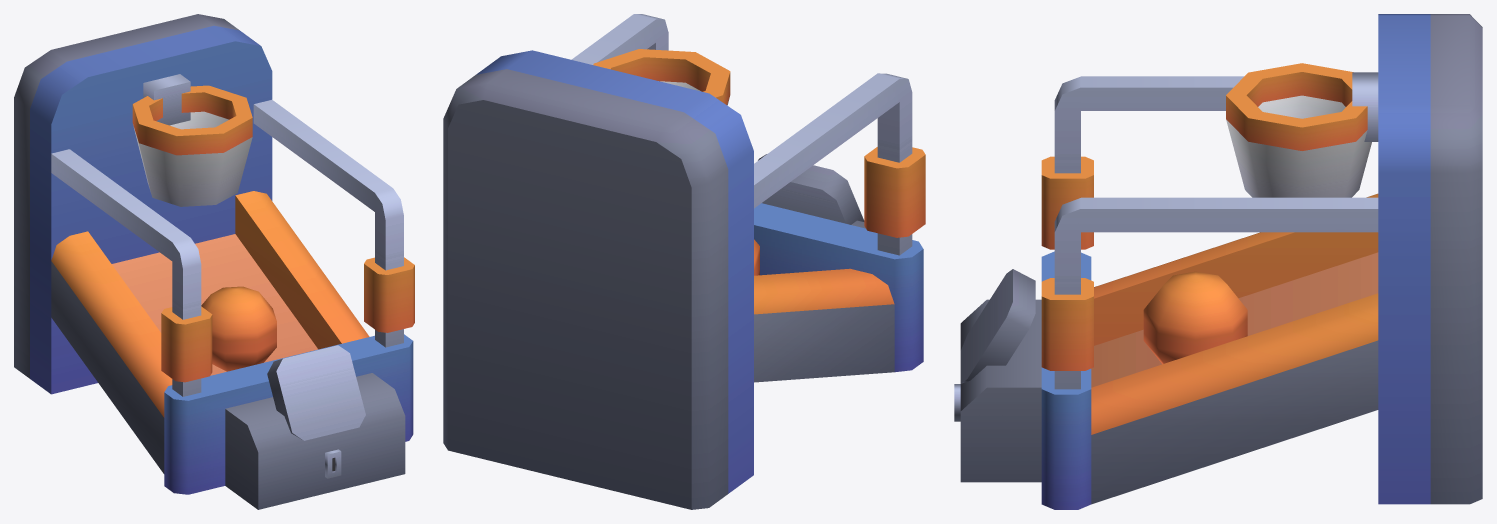
The model's file is kenney-mini-arcade-basketball-game.glb.
3 renders of one model, left to right at view 1: azimuth 30°, elevation 25°; view 2: azimuth 150°, elevation 25°; view 3: azimuth 270°, elevation 25°, orthographic. The views are drawn at different scales.
Visible parts, largest first — view 1: basketball-game, ball; view 2: basketball-game; view 3: basketball-game, ball.
Boxes of the visible parts, left/top/right/bottom form: basketball-game: left=14, top=14, right=414, bottom=509; ball: left=201, top=286, right=276, bottom=371; basketball-game: left=443, top=14, right=925, bottom=509; basketball-game: left=954, top=14, right=1482, bottom=509; ball: left=1143, top=271, right=1247, bottom=364.
Bounding box in the file's own units: 0.65 × 0.8 × 1.01.
1 material, 1 textured.
